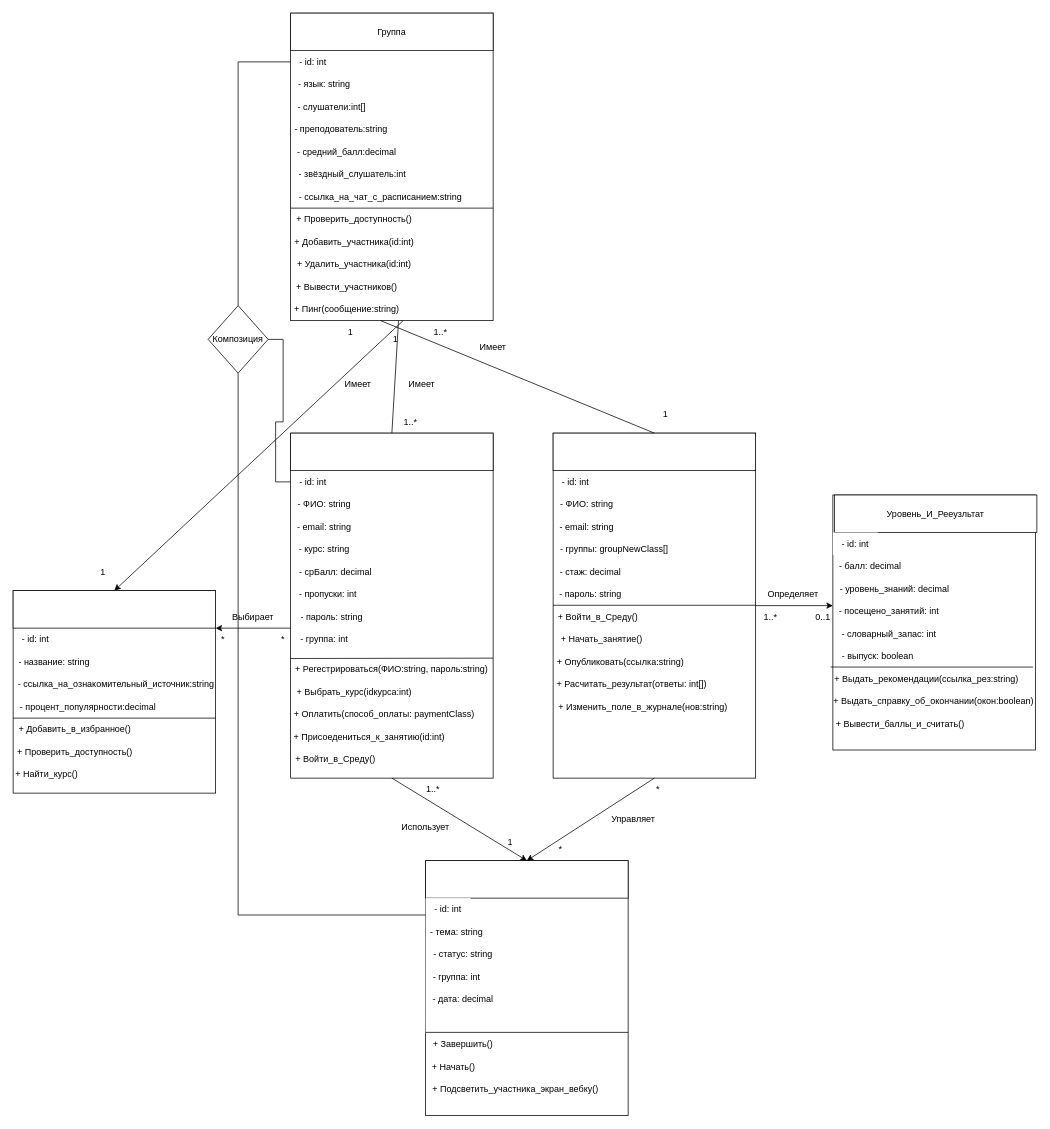
This 1050x1129 diagram has some shape labels left out. Here are the shapes that lost their labels. From the top down, the centre of each, then its label:
point 391,451: Пользователь
point 654,451: Преподователь
point 114,609: Язык
point 526,879: Занятие
point 481,1021: - длительность: decimal
